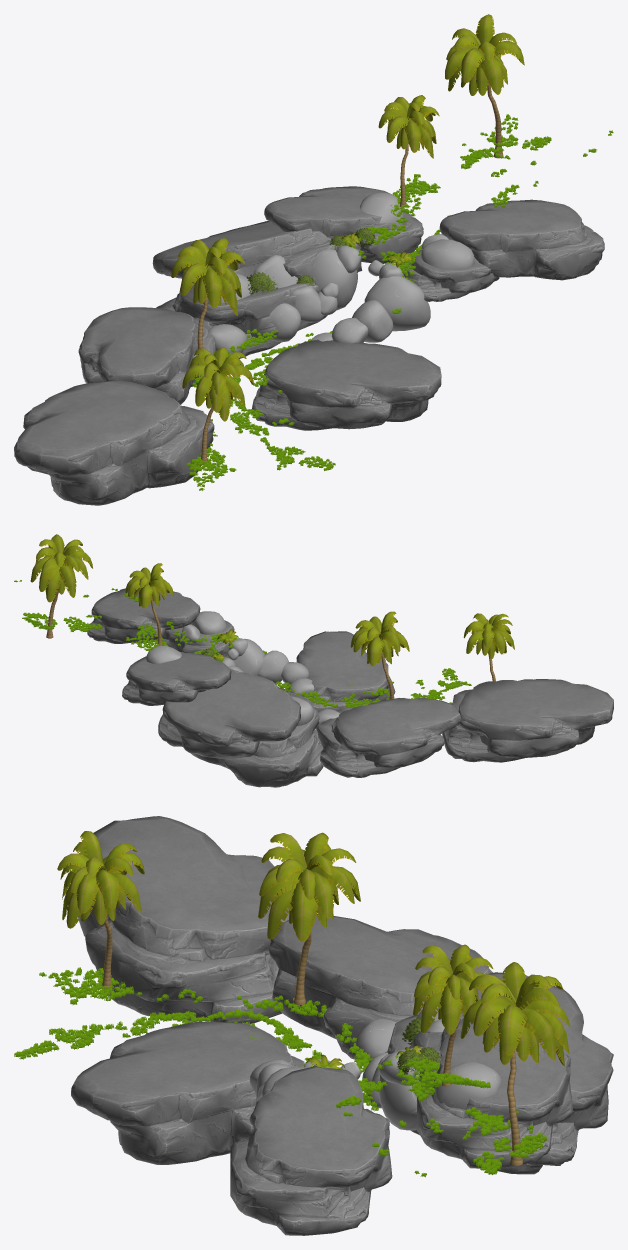
The model's file is scenery.glb.
The picture shows the model from 3 angles, top to bottom: view 1: azimuth 30°, elevation 25°; view 2: azimuth 150°, elevation 25°; view 3: azimuth 270°, elevation 25°; orthographic projection. The views are drawn at different scales.
Visible parts, largest first — view 1: GlobalObjectId_V1-2-79e4a25f666bb4b4db875688ece67899-9150269 (×8), GlobalObjectId_V1-2-79e4a25f666bb4b4db875688ece67899-2342416 (×4), GlobalObjectId_V1-2-79e4a25f666bb4b4db875688ece67899-5292862 (×10), terrain-grass-(9, 13), terrain-grass-(4, 10), terrain-grass-(5, 10), terrain-grass-(6, 12); view 2: GlobalObjectId_V1-2-79e4a25f666bb4b4db875688ece67899-9150269 (×8), GlobalObjectId_V1-2-79e4a25f666bb4b4db875688ece67899-2342416 (×4), GlobalObjectId_V1-2-79e4a25f666bb4b4db875688ece67899-5292862 (×5), terrain-grass-(9, 13), terrain-grass-(6, 12), terrain-grass-(10, 13); view 3: GlobalObjectId_V1-2-79e4a25f666bb4b4db875688ece67899-9150269 (×7), GlobalObjectId_V1-2-79e4a25f666bb4b4db875688ece67899-2342416 (×4), GlobalObjectId_V1-2-79e4a25f666bb4b4db875688ece67899-5292862 (×4), terrain-grass-(4, 10), terrain-grass-(5, 10), terrain-grass-(5, 11), terrain-grass-(6, 12), terrain-grass-(8, 13), terrain-grass-(10, 13), terrain-grass-(9, 13), terrain-grass-(5, 12).
Boxes of the visible parts, bbox=[...] form: GlobalObjectId_V1-2-79e4a25f666bb4b4db875688ece67899-9150269 (×8): bbox=[14, 186, 604, 505]; GlobalObjectId_V1-2-79e4a25f666bb4b4db875688ece67899-2342416 (×4): bbox=[171, 14, 524, 464]; GlobalObjectId_V1-2-79e4a25f666bb4b4db875688ece67899-5292862 (×10): bbox=[209, 192, 474, 357]; terrain-grass-(9, 13): bbox=[390, 174, 440, 231]; terrain-grass-(4, 10): bbox=[186, 431, 236, 482]; terrain-grass-(5, 10): bbox=[235, 418, 305, 464]; terrain-grass-(6, 12): bbox=[227, 329, 299, 369]; GlobalObjectId_V1-2-79e4a25f666bb4b4db875688ece67899-9150269 (×8): bbox=[87, 588, 613, 787]; GlobalObjectId_V1-2-79e4a25f666bb4b4db875688ece67899-2342416 (×4): bbox=[30, 534, 514, 699]; GlobalObjectId_V1-2-79e4a25f666bb4b4db875688ece67899-5292862 (×5): bbox=[146, 611, 309, 684]; terrain-grass-(9, 13): bbox=[126, 624, 168, 651]; terrain-grass-(6, 12): bbox=[308, 691, 370, 707]; terrain-grass-(10, 13): bbox=[52, 594, 102, 631]; GlobalObjectId_V1-2-79e4a25f666bb4b4db875688ece67899-9150269 (×7): bbox=[71, 816, 613, 1235]; GlobalObjectId_V1-2-79e4a25f666bb4b4db875688ece67899-2342416 (×4): bbox=[57, 831, 570, 1165]; GlobalObjectId_V1-2-79e4a25f666bb4b4db875688ece67899-5292862 (×4): bbox=[355, 1018, 501, 1130]; terrain-grass-(4, 10): bbox=[57, 967, 168, 1004]; terrain-grass-(5, 10): bbox=[58, 1012, 171, 1049]; terrain-grass-(5, 11): bbox=[170, 993, 280, 1027]; terrain-grass-(6, 12): bbox=[278, 1026, 372, 1073]; terrain-grass-(8, 13): bbox=[387, 1054, 439, 1097]; terrain-grass-(10, 13): bbox=[398, 1107, 501, 1147]; terrain-grass-(9, 13): bbox=[418, 1071, 490, 1101]; terrain-grass-(5, 12): bbox=[276, 995, 352, 1028].
Bounding box in the file's own units: 160 × 55.57 × 87.46.
Materials: 7 (7 with a texture image).
